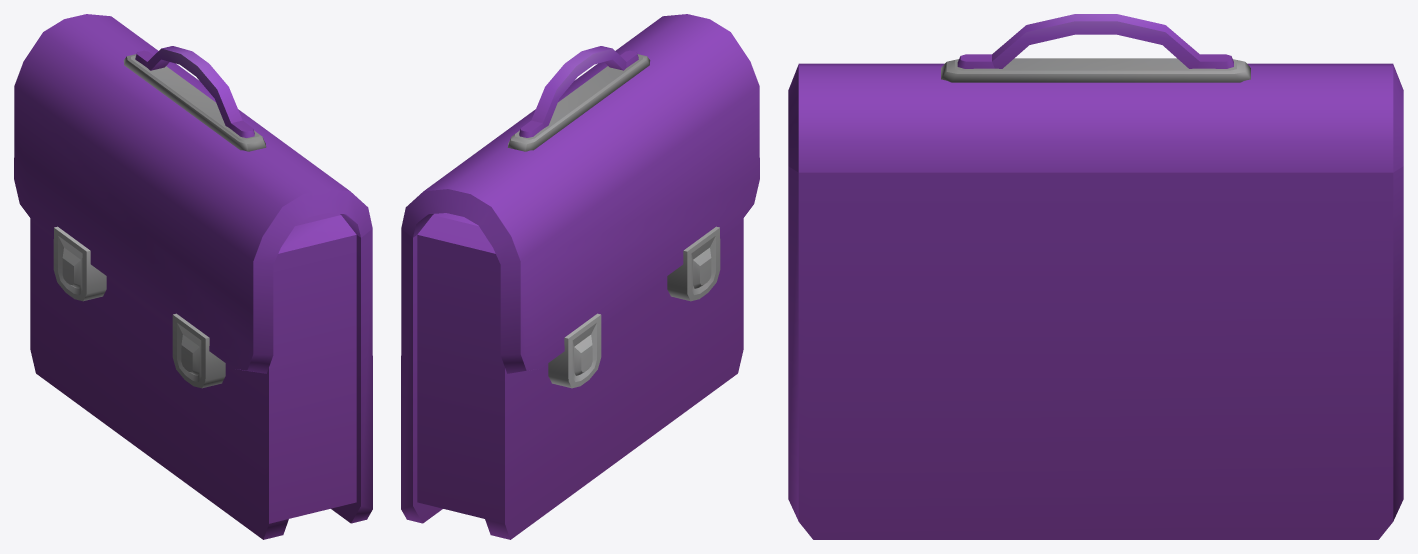
File: Suitcase_1_1_G.fbx
The picture shows the model from 3 angles, left to right: view 1: azimuth 30°, elevation 25°; view 2: azimuth 150°, elevation 25°; view 3: azimuth 270°, elevation 25°; orthographic projection. The views are drawn at different scales.
Visible parts, largest first — view 1: Suitcase_1_1_G; view 2: Suitcase_1_1_G; view 3: Suitcase_1_1_G.
Part boxes in pixels (x1,y1,x2,y2): Suitcase_1_1_G: (14, 14, 372, 539); Suitcase_1_1_G: (401, 14, 759, 539); Suitcase_1_1_G: (788, 14, 1403, 539).
Bounding box in the file's own units: 16.04 × 47.79 × 54.73.
